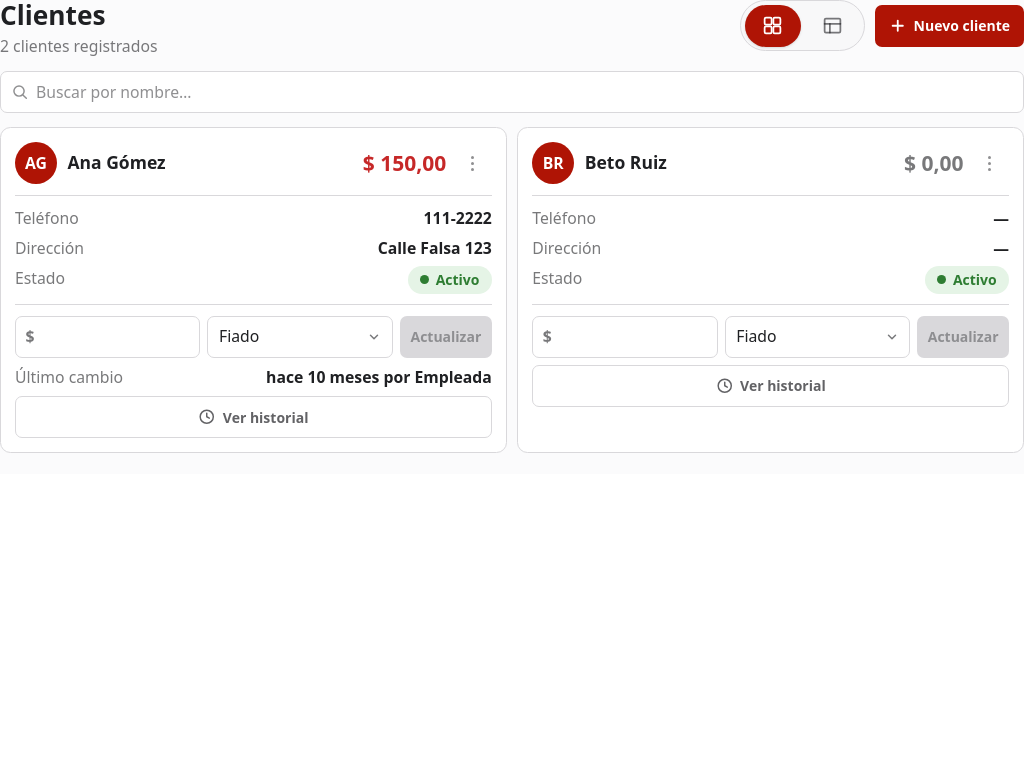
Test: CustomersPage › shows the breadcrumb for the customer form modal
Click the button "Nuevo cliente" at (950, 26), box x1=875 y1=4 x2=1023 y2=46
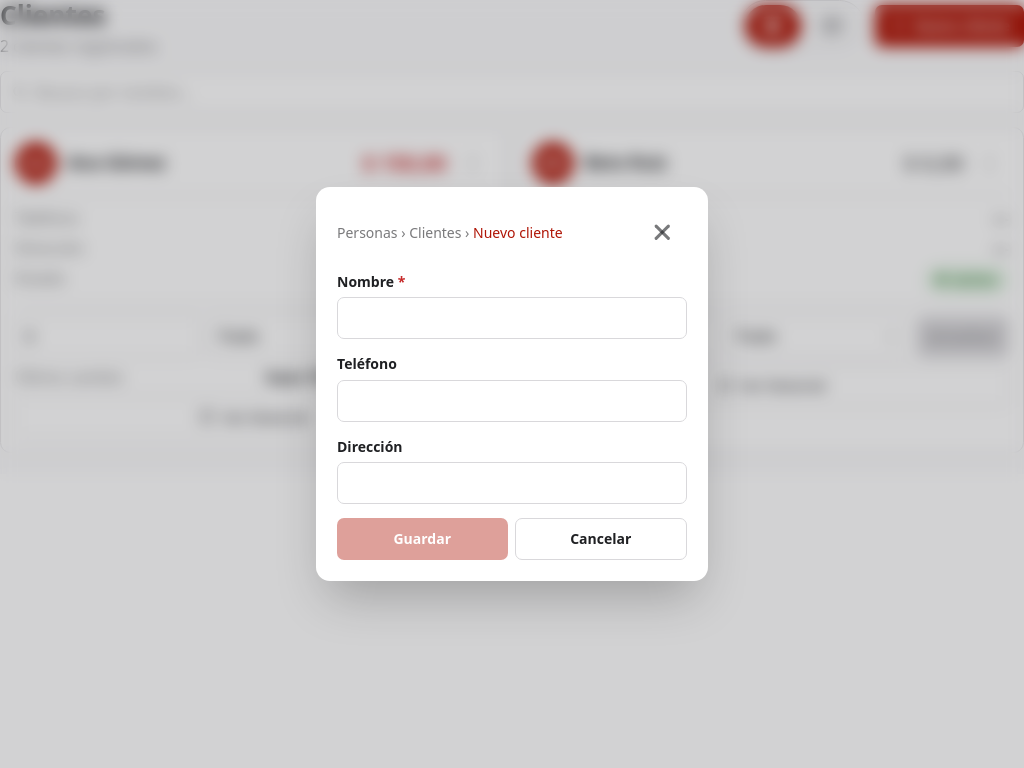
Check: the element showing "Personas › Clientes › Nuevo cliente" is shown, box x1=337 y1=223 x2=563 y2=242
Click the button "Cancelar" at (601, 539), box x1=514 y1=518 x2=687 y2=560
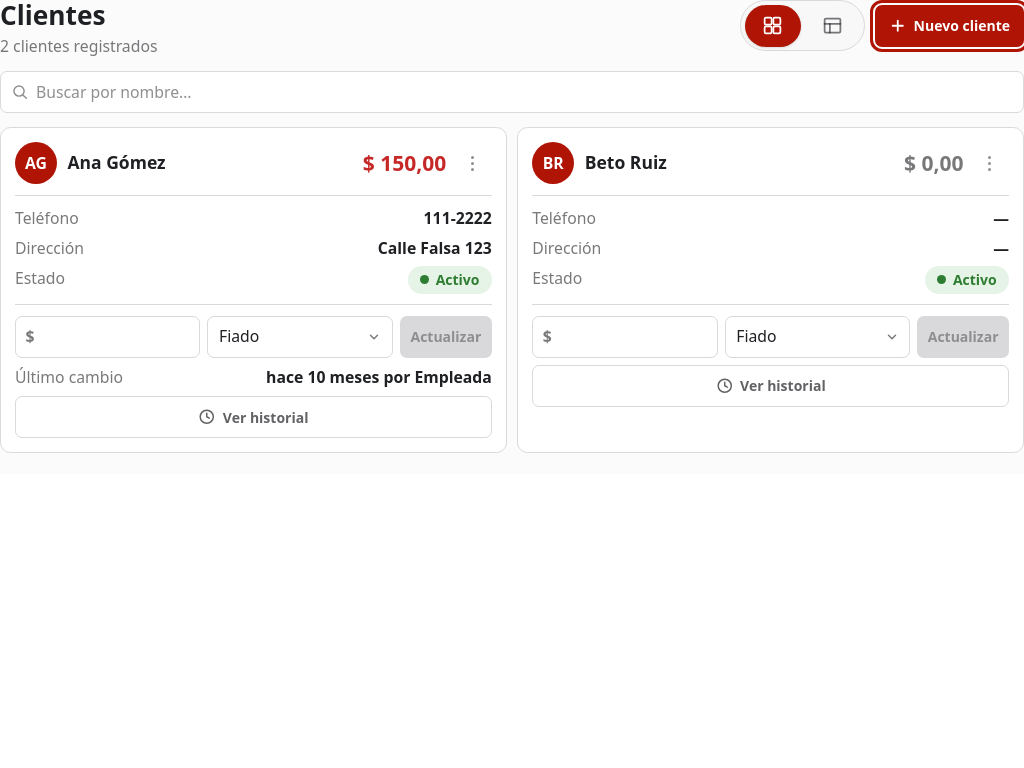
Click the button named "Acciones para Ana Gómez" at (473, 163), box x1=453 y1=144 x2=492 y2=182
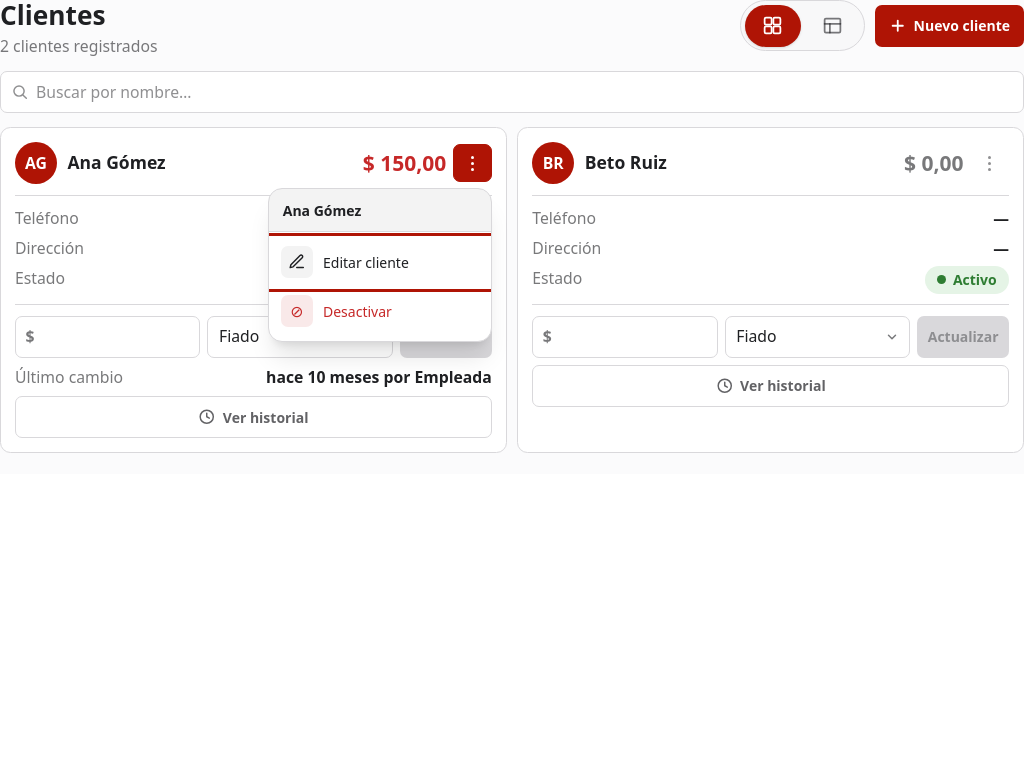
Click the button "Editar cliente" at (380, 262), box x1=269 y1=238 x2=491 y2=286
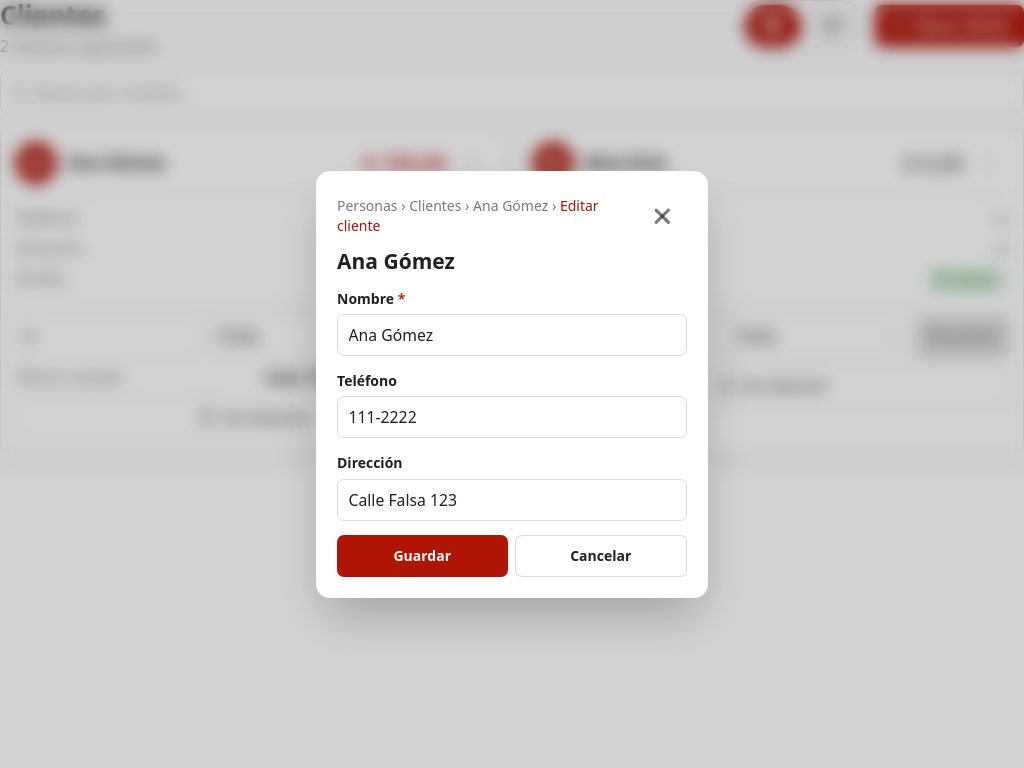
Check: the element showing "Personas › Clientes › Ana Gómez › Editar cliente" is shown, box x1=337 y1=196 x2=628 y2=236
